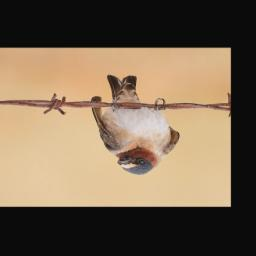Swallow: (91, 74, 181, 176)
